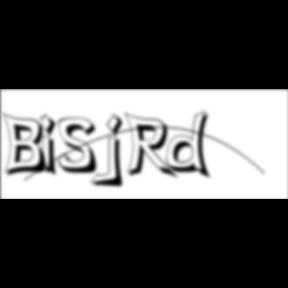B: (3, 111, 53, 179)
R: (124, 112, 182, 182)
S: (58, 117, 104, 176)
d: (167, 110, 217, 182)
i: (40, 112, 64, 180)
j: (104, 113, 130, 191)
